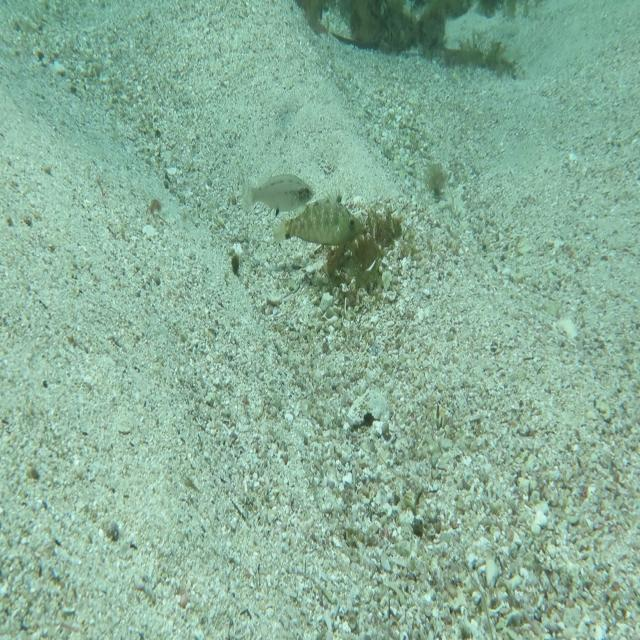ROLL: (272, 183, 372, 257)
female: (242, 165, 316, 220)
nest: (295, 175, 399, 311)
